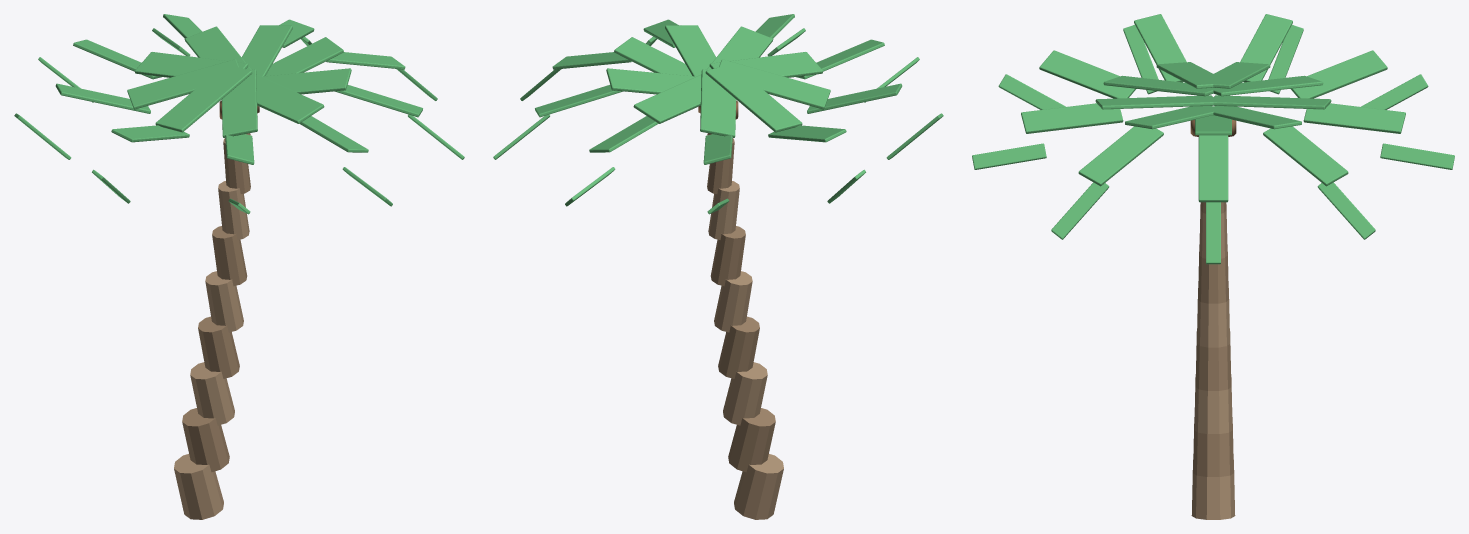
The model's file is palm_tree.glb.
The picture shows the model from 3 angles, left to right: view 1: azimuth 30°, elevation 25°; view 2: azimuth 150°, elevation 25°; view 3: azimuth 270°, elevation 25°; orthographic projection. The views are drawn at different scales.
Visible parts, largest first — view 1: TrunkSeg_0, Frond_5_0, Frond_4_0, TrunkSeg_1, TrunkSeg_2, Frond_6_0, Frond_7_0, TrunkSeg_3, TrunkSeg_4, Frond_1_0, Frond_8_0, Frond_3_0 (+13 smaller); view 2: Frond_4_0, TrunkSeg_0, TrunkSeg_1, Frond_5_0, TrunkSeg_2, Frond_3_0, Frond_2_0, TrunkSeg_3, TrunkSeg_4, Frond_8_0, Frond_1_0, Frond_6_0 (+13 smaller); view 3: Frond_2_1, Frond_7_1, Frond_0_1, Frond_1_1, Frond_8_1, Frond_3_1, Frond_6_1, TrunkSeg_0, TrunkSeg_1, TrunkSeg_2, Frond_4_1, Frond_5_1 (+22 smaller).
Boxes of the visible parts, box(x1,y1,x2,y2) form: TrunkSeg_0: box(174, 454, 223, 519); Frond_5_0: box(155, 64, 252, 132); Frond_4_0: box(127, 59, 240, 109); TrunkSeg_1: box(182, 408, 229, 472); TrunkSeg_2: box(190, 362, 234, 425); Frond_6_0: box(221, 69, 257, 137); Frond_7_0: box(256, 75, 324, 123); TrunkSeg_3: box(198, 316, 239, 378); TrunkSeg_4: box(205, 271, 243, 332); Frond_1_0: box(241, 25, 292, 76); Frond_8_0: box(262, 68, 351, 94); Frond_3_0: box(135, 52, 248, 77); Frond_4_0: box(705, 64, 802, 132); TrunkSeg_0: box(734, 454, 783, 519); TrunkSeg_1: box(728, 408, 775, 472); Frond_5_0: box(719, 59, 830, 109); TrunkSeg_2: box(723, 362, 767, 425); Frond_3_0: box(700, 69, 736, 137); Frond_2_0: box(633, 75, 701, 123); TrunkSeg_3: box(718, 316, 759, 378); TrunkSeg_4: box(714, 271, 752, 332); Frond_8_0: box(665, 25, 716, 76); Frond_1_0: box(606, 68, 695, 94); Frond_6_0: box(709, 52, 822, 77); Frond_2_1: box(1303, 103, 1405, 133); Frond_7_1: box(1021, 103, 1123, 133); Frond_0_1: box(1198, 135, 1228, 202); Frond_1_1: box(1263, 126, 1348, 186); Frond_8_1: box(1078, 126, 1163, 186); Frond_3_1: box(1290, 50, 1387, 98); Frond_6_1: box(1039, 50, 1136, 98); TrunkSeg_0: box(1191, 460, 1235, 519); TrunkSeg_1: box(1193, 417, 1233, 476); TrunkSeg_2: box(1194, 374, 1232, 433); Frond_4_1: box(1240, 14, 1292, 82); Frond_5_1: box(1134, 14, 1186, 82).
Size of the model in its own units: 7.13 by 7.87 by 7.57.
